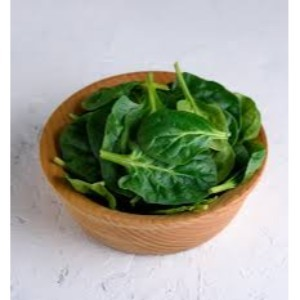spinach_brain food: (60, 70, 249, 211)
